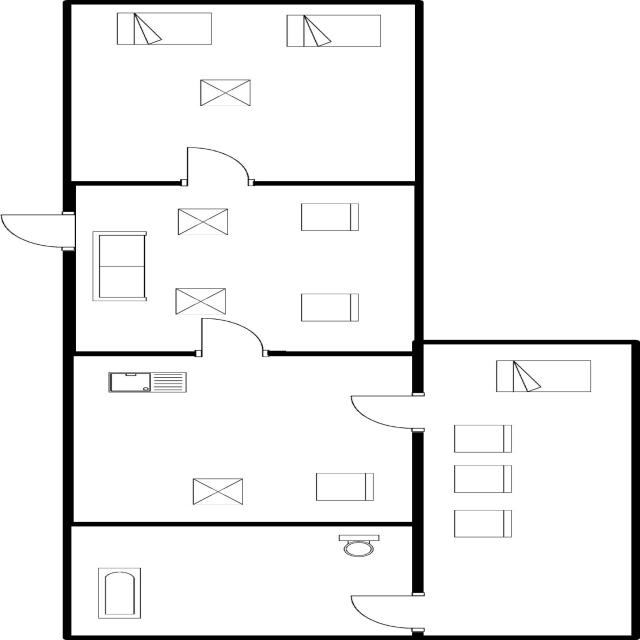bed: (105, 7, 223, 49), (490, 356, 598, 397), (277, 12, 392, 49)
coffee_table: (188, 76, 264, 110), (170, 203, 238, 241), (182, 474, 255, 508), (167, 285, 240, 318)
large_sink: (328, 529, 388, 563)
large_sofa: (84, 226, 157, 306)
sink: (103, 369, 191, 398)
small_sofa: (291, 198, 368, 237), (307, 467, 381, 506), (291, 289, 367, 326), (446, 419, 519, 457), (446, 461, 523, 497), (444, 506, 520, 542)
tub: (85, 564, 150, 622)
